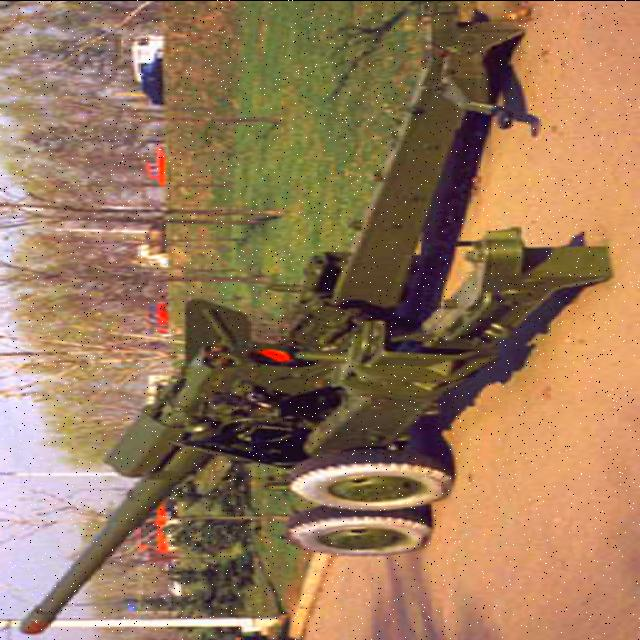ART: (17, 9, 614, 635)
